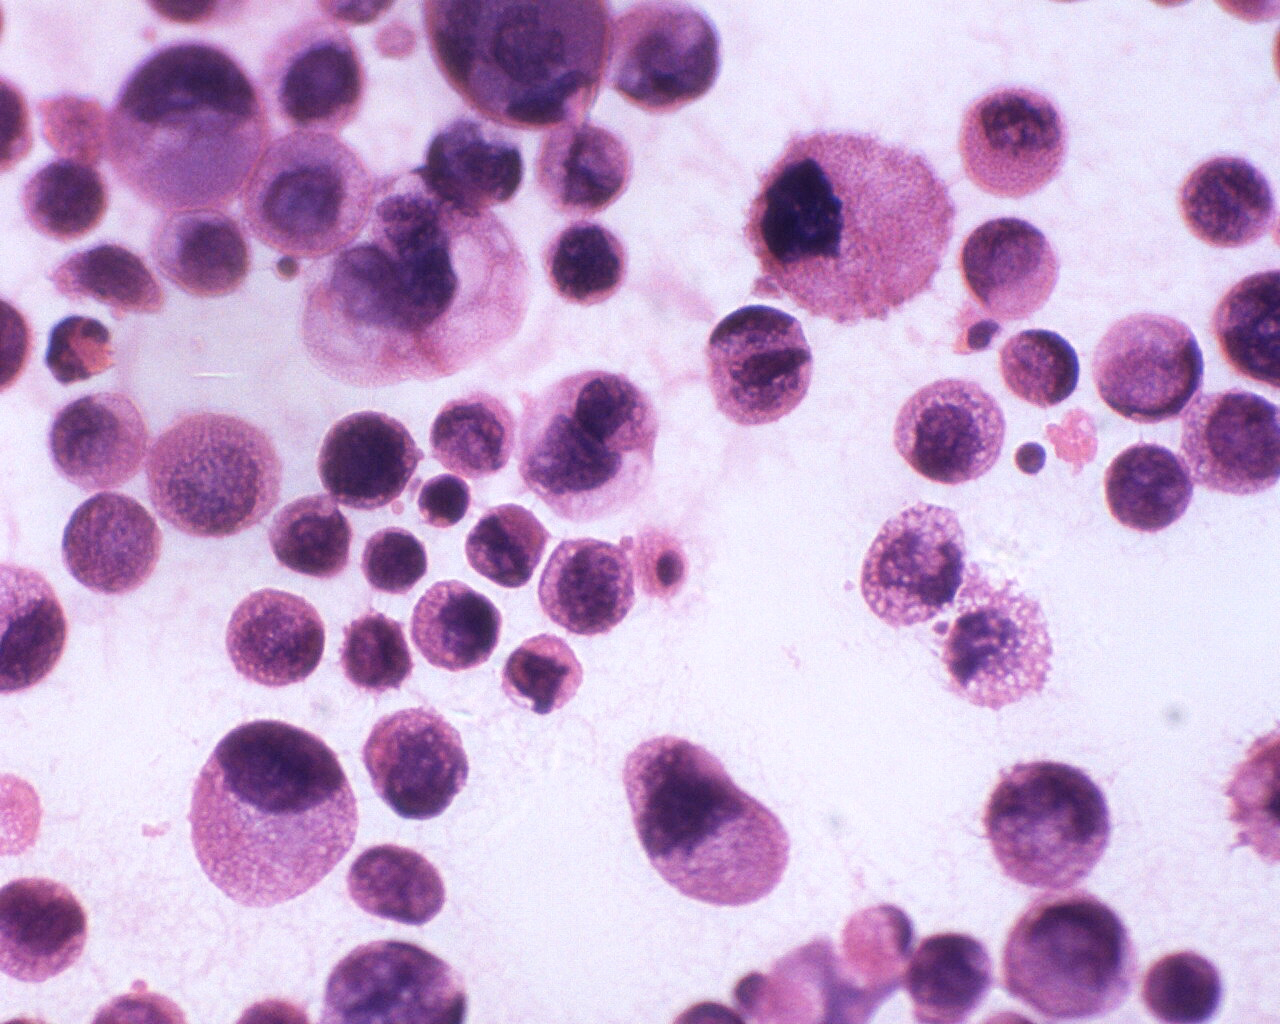ab: (748, 125, 956, 328), (185, 718, 360, 914), (889, 370, 1010, 489), (358, 704, 473, 827), (315, 406, 423, 515), (225, 587, 332, 692), (148, 206, 255, 306), (1095, 439, 1194, 536), (409, 573, 506, 671), (17, 155, 111, 245), (265, 491, 356, 583), (460, 501, 550, 591), (544, 217, 631, 310), (499, 631, 586, 718), (332, 609, 416, 694), (1135, 950, 1229, 1024), (355, 523, 432, 594)
meso: (628, 525, 696, 601)
